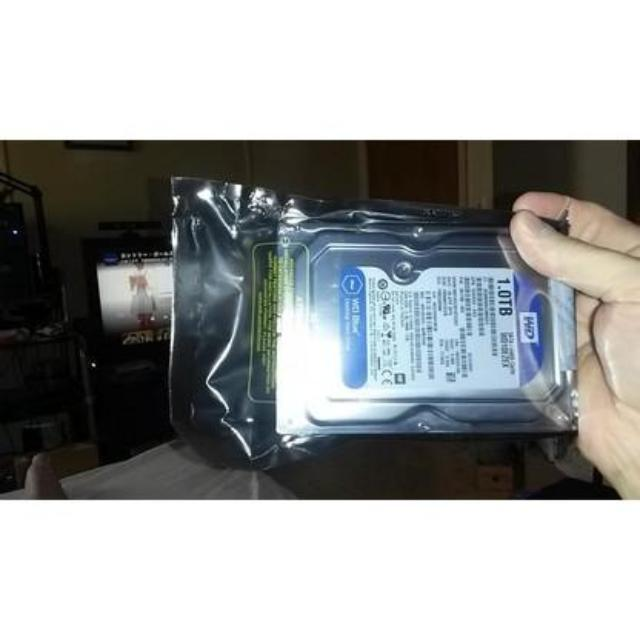DISK: (282, 220, 567, 437)
